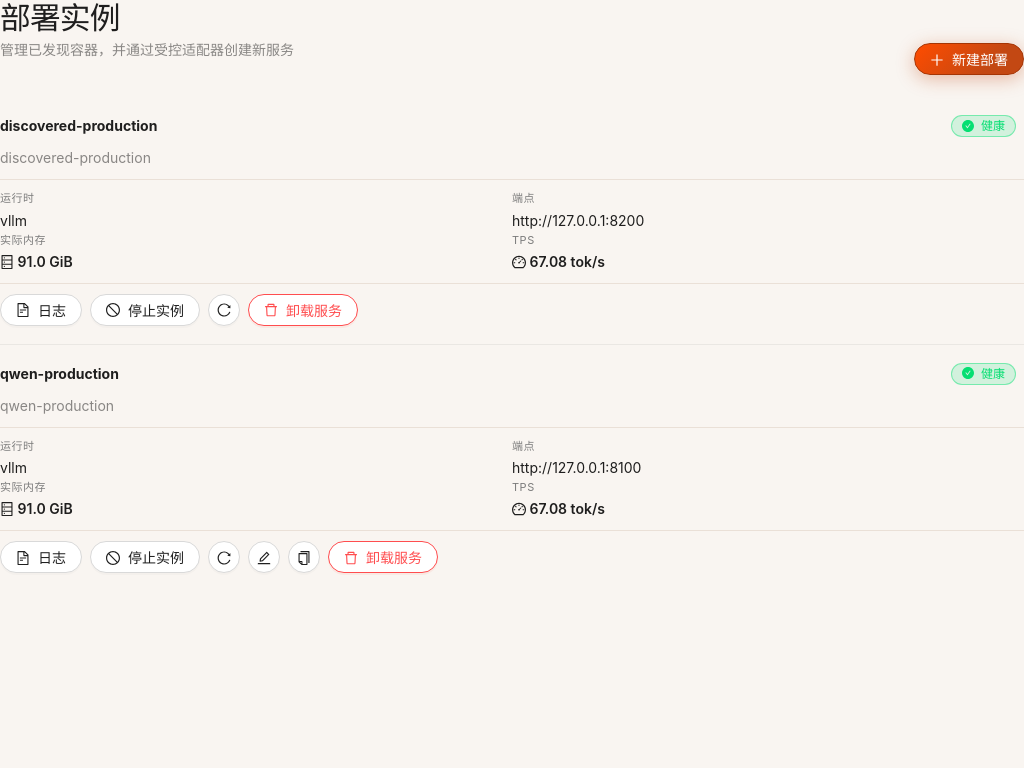
Test: DeploymentsPage lifecycle actions › does not lock discovered uninstall behind an unrelated pending stop
Click the button with aria-label "停止实例 qwen-production" at (145, 557), box [90,541,200,573]
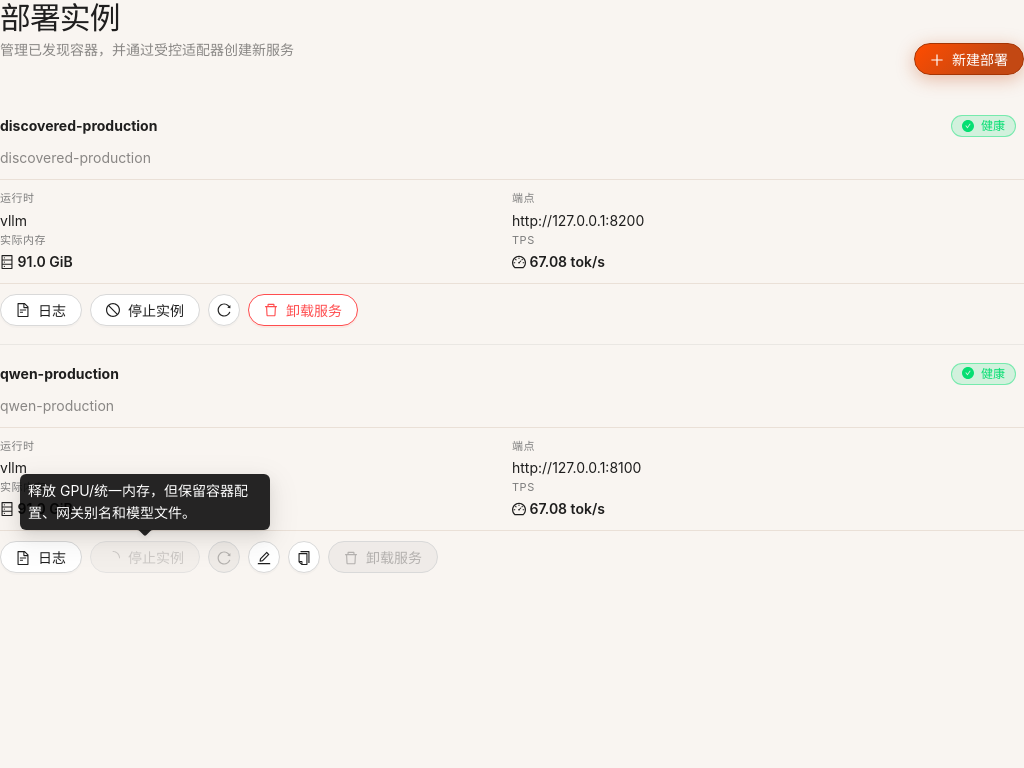
Click the button with aria-label "卸载服务 discovered-production" at (303, 310), box [248,294,358,326]
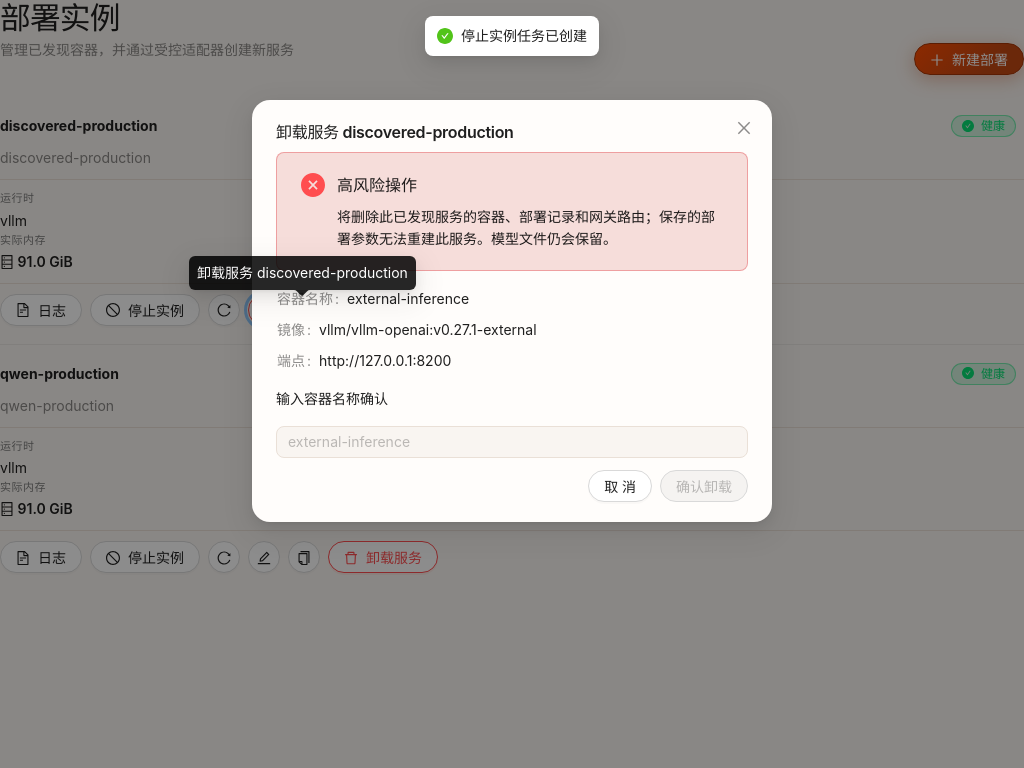
Expected: the button "取 消" is enabled, [588,470,652,502]
